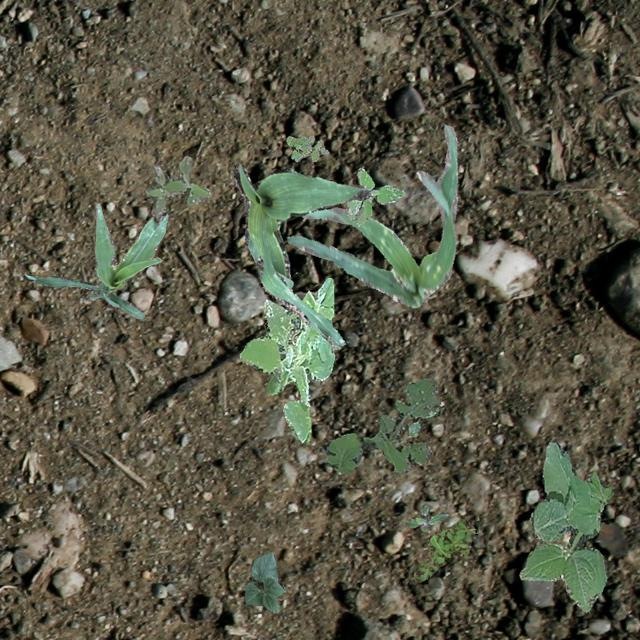crop: (286, 124, 456, 306), (230, 164, 370, 348), (22, 202, 166, 318), (242, 550, 284, 612)
weed: (238, 276, 334, 442), (518, 440, 610, 612), (324, 378, 441, 472), (144, 154, 208, 218), (412, 518, 474, 582), (346, 168, 404, 225), (404, 502, 446, 530), (286, 134, 328, 160), (407, 406, 438, 436)
